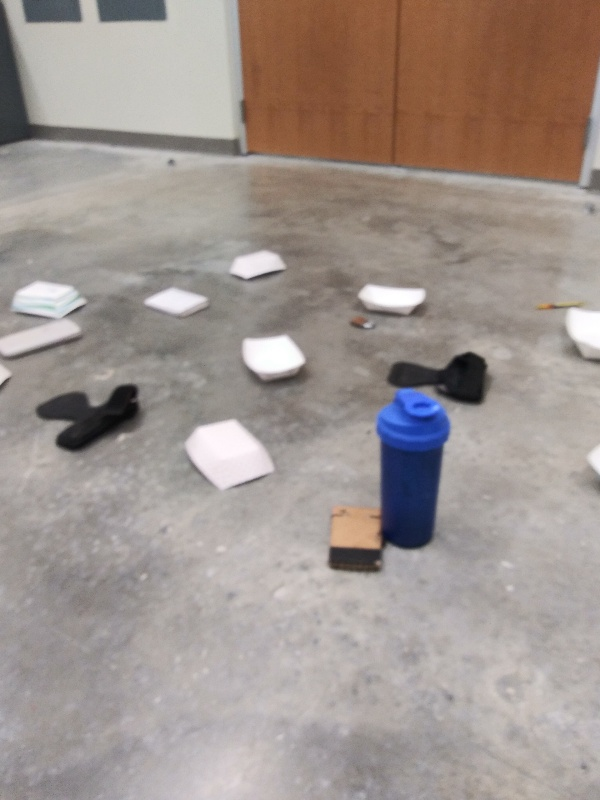plate: (176, 415, 279, 496), (238, 331, 309, 389), (8, 278, 93, 323), (354, 280, 429, 320), (556, 304, 600, 366), (226, 249, 290, 283), (580, 435, 600, 499), (1, 359, 18, 400)
